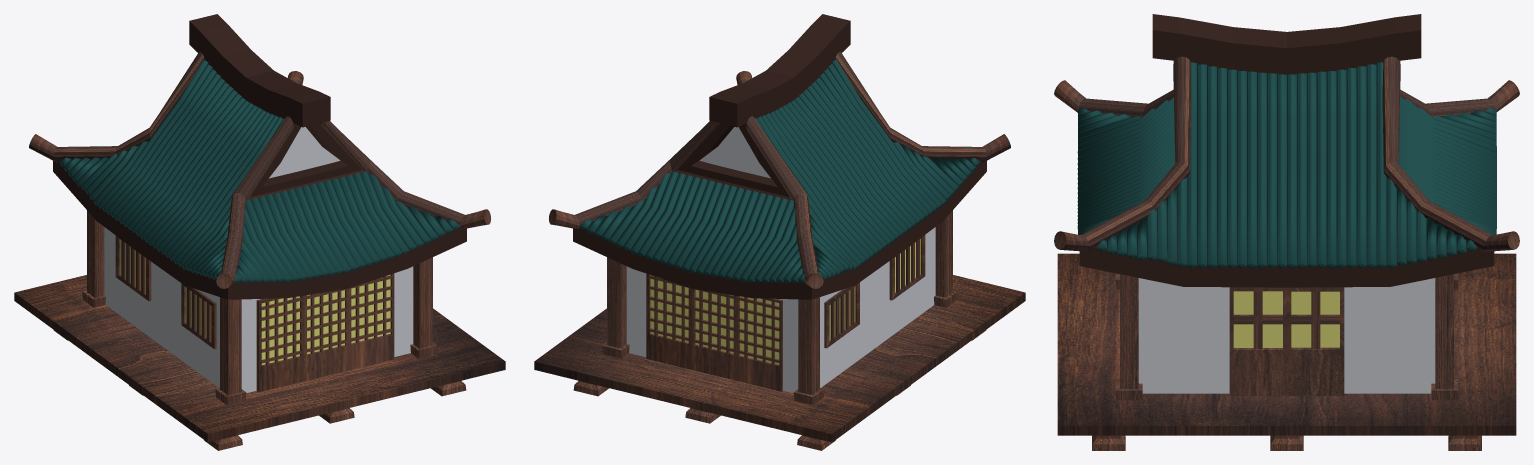
File: Casa.Weeaboo_LOD.fbx
3 views of the same model, side by side, from view 1: azimuth 30°, elevation 25°; view 2: azimuth 150°, elevation 25°; view 3: azimuth 270°, elevation 25° (orthographic). The views are drawn at different scales.
Parts seen in each view (by area): view 1: House_LOD0; view 2: House_LOD0; view 3: House_LOD0.
Part boxes in pixels (box(x1,y1,x2,y2)): House_LOD0: box(14, 14, 505, 450); House_LOD0: box(534, 14, 1025, 450); House_LOD0: box(1054, 14, 1519, 450).
Size of what is drawn, in the model's own units: 800 by 774 by 915.
Materials: 5 (3 with a texture image).
